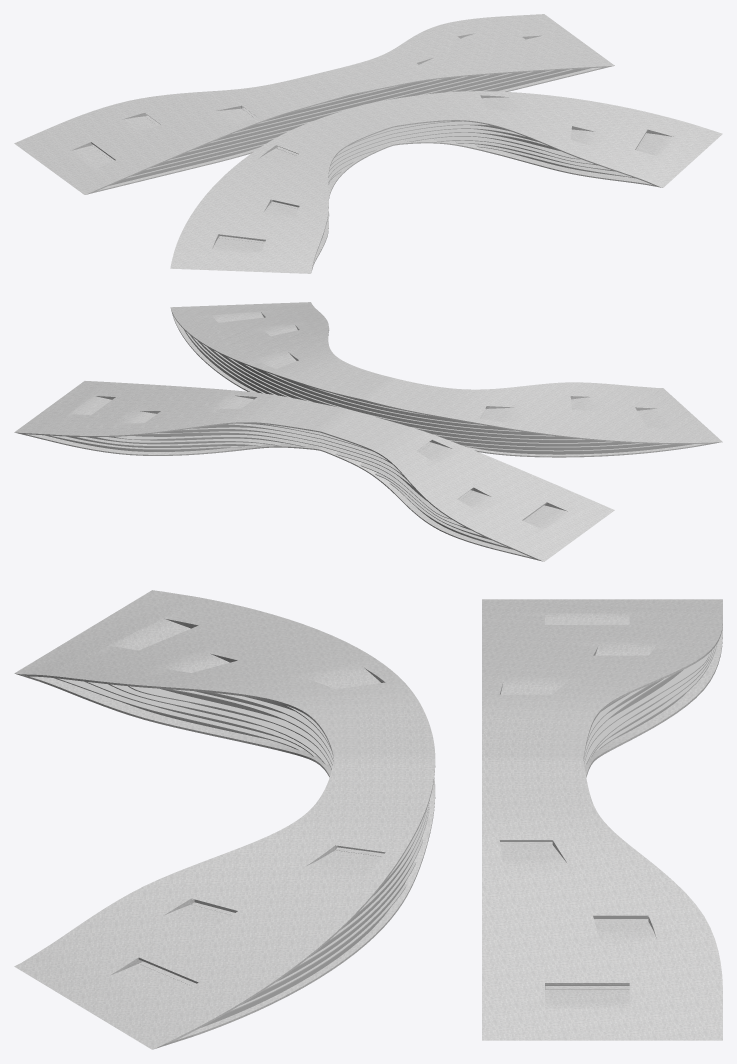
The model's file is KB3D_UTP_BldgMD_B.fbx.
3 renders of one model, top to bottom at view 1: azimuth 30°, elevation 25°; view 2: azimuth 150°, elevation 25°; view 3: azimuth 270°, elevation 25°, orthographic. The views are drawn at different scales.
Visible parts, largest first — view 1: KB3D_UTP_BldgMD_B_Main, KB3D_UTP_BldgMD_B_BuildingA; view 2: KB3D_UTP_BldgMD_B_BuildingA, KB3D_UTP_BldgMD_B_Main; view 3: KB3D_UTP_BldgMD_B_Main, KB3D_UTP_BldgMD_B_BuildingA.
Part boxes in pixels (x1,y1,x2,y2): KB3D_UTP_BldgMD_B_Main: [170, 91, 722, 273]; KB3D_UTP_BldgMD_B_BuildingA: [14, 14, 614, 194]; KB3D_UTP_BldgMD_B_BuildingA: [14, 381, 614, 561]; KB3D_UTP_BldgMD_B_Main: [170, 302, 722, 457]; KB3D_UTP_BldgMD_B_Main: [14, 590, 435, 1049]; KB3D_UTP_BldgMD_B_BuildingA: [482, 599, 722, 1040].
Bounding box in the file's own units: 67724 × 4202 × 44138.
